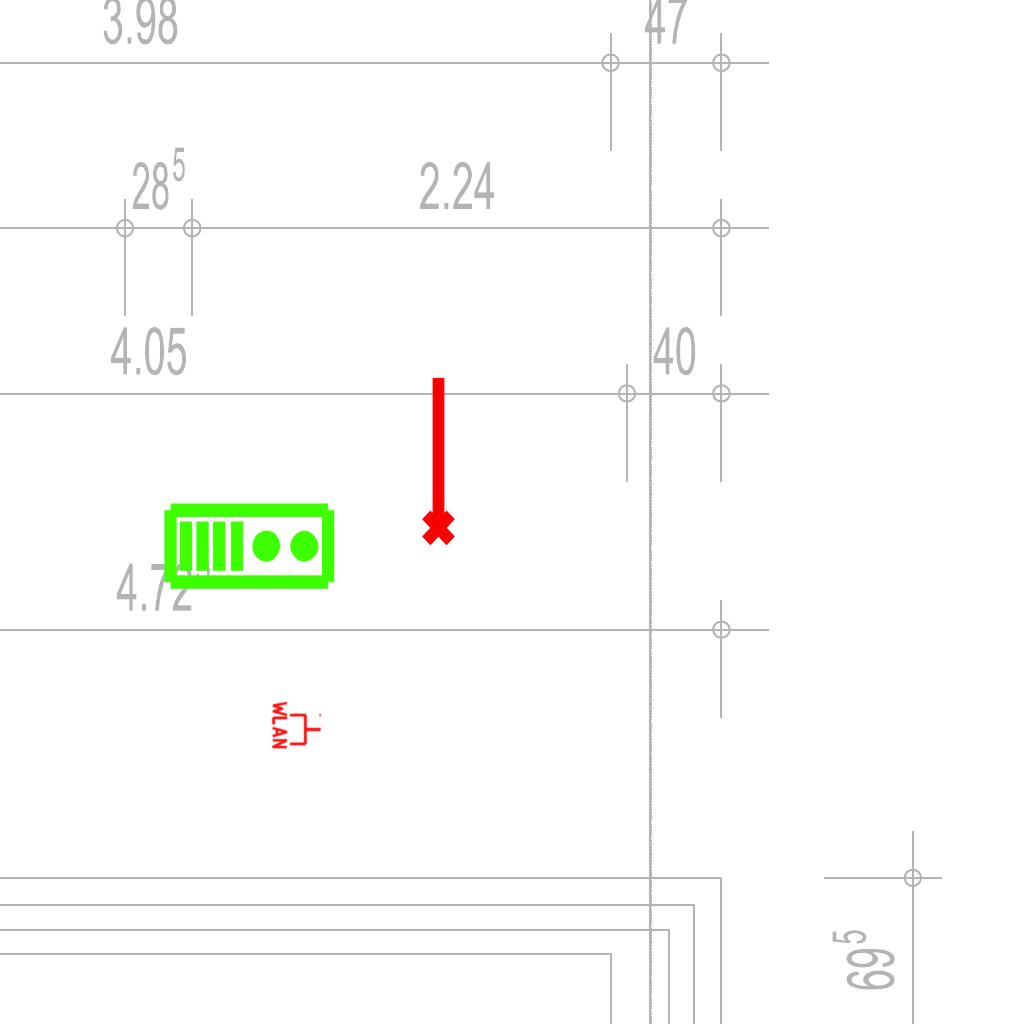ASR_Ansaugoeffnung: (413, 372, 459, 548)
Gegensprechanlage_mit_Video: (162, 497, 338, 592)
WLAN: (271, 699, 323, 751)
